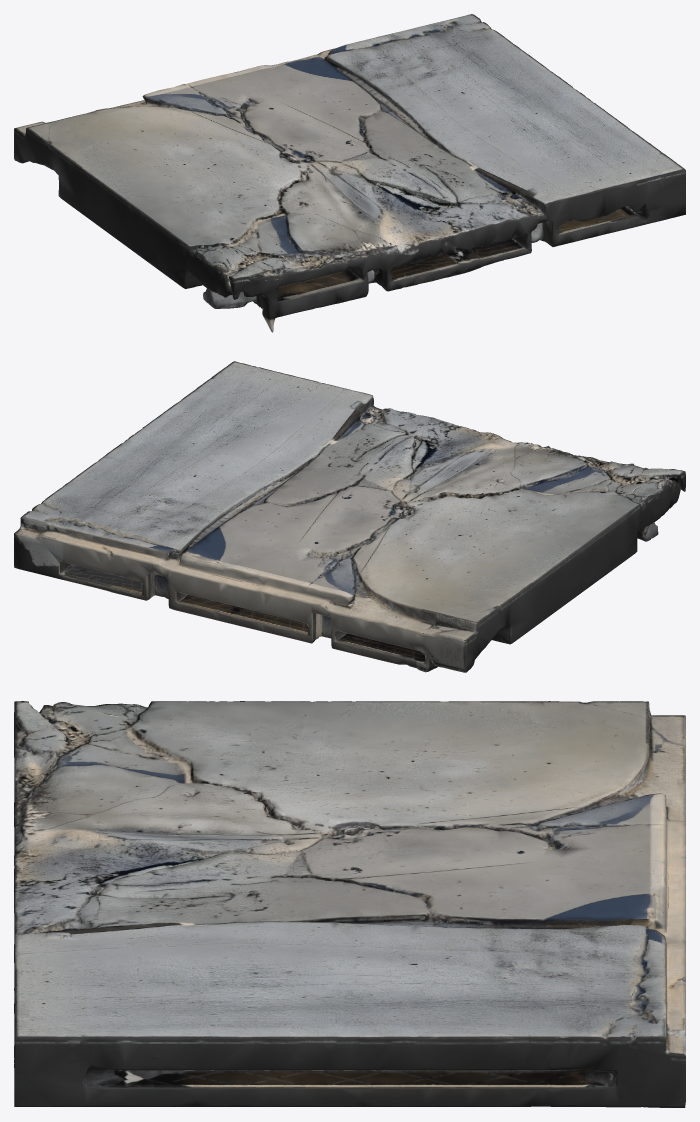
File: crack_3.glb
The picture shows the model from 3 angles, top to bottom: view 1: azimuth 30°, elevation 25°; view 2: azimuth 150°, elevation 25°; view 3: azimuth 270°, elevation 25°; orthographic projection. The views are drawn at different scales.
Visible parts, largest first — view 1: Mesh1.0; view 2: Mesh1.0; view 3: Mesh1.0.
Part boxes in pixels (<box>): Mesh1.0: <box>14,14,685,332</box>; Mesh1.0: <box>14,361,685,672</box>; Mesh1.0: <box>14,701,685,1107</box>.
Size of the model in its own units: 1.91 by 0.2694 by 1.61.
Materials: 1 (1 with a texture image).
